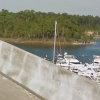Boat: (53, 46, 100, 75)
